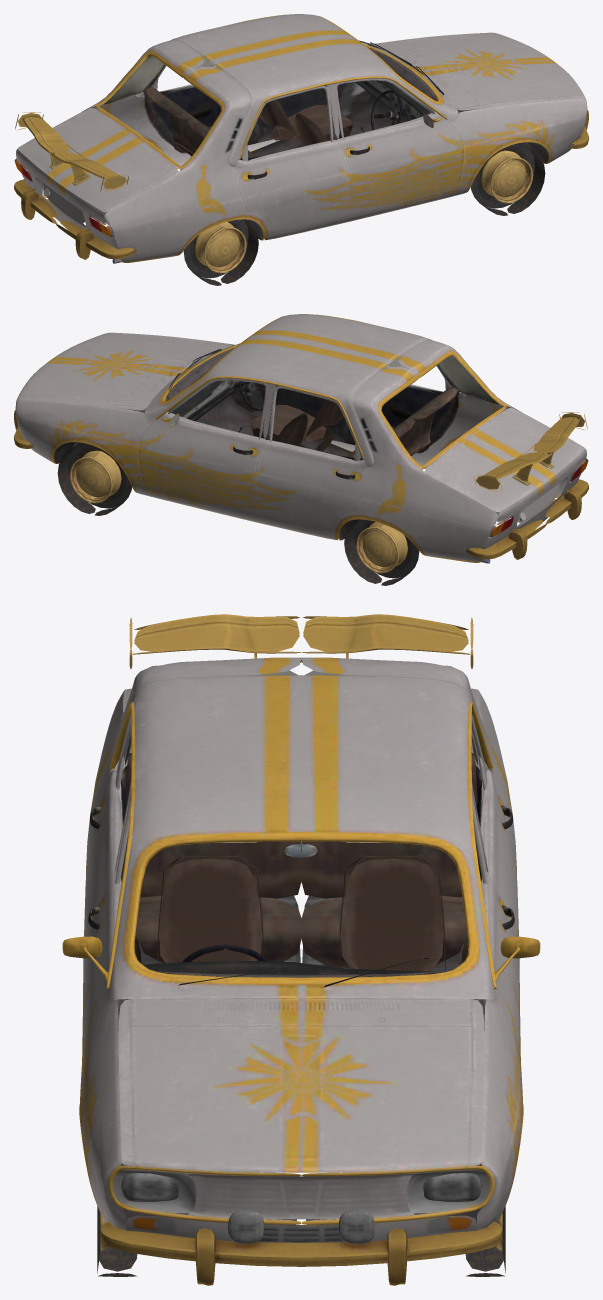
Rendered from dacia.glb.
3 renders of one model, top to bottom at view 1: azimuth 30°, elevation 25°; view 2: azimuth 150°, elevation 25°; view 3: azimuth 270°, elevation 25°, orthographic. The views are drawn at different scales.
Visible parts, largest first — view 1: Mesh_0779.rip; view 2: Mesh_0779.rip; view 3: Mesh_0779.rip.
Part boxes in pixels (left/top/right/bottom): Mesh_0779.rip: left=14, top=14, right=588, bottom=285; Mesh_0779.rip: left=14, top=314, right=588, bottom=585; Mesh_0779.rip: left=62, top=614, right=540, bottom=1285.
Bounding box in the file's own units: 4.49 × 1.49 × 1.81.
1 material, 1 textured.
